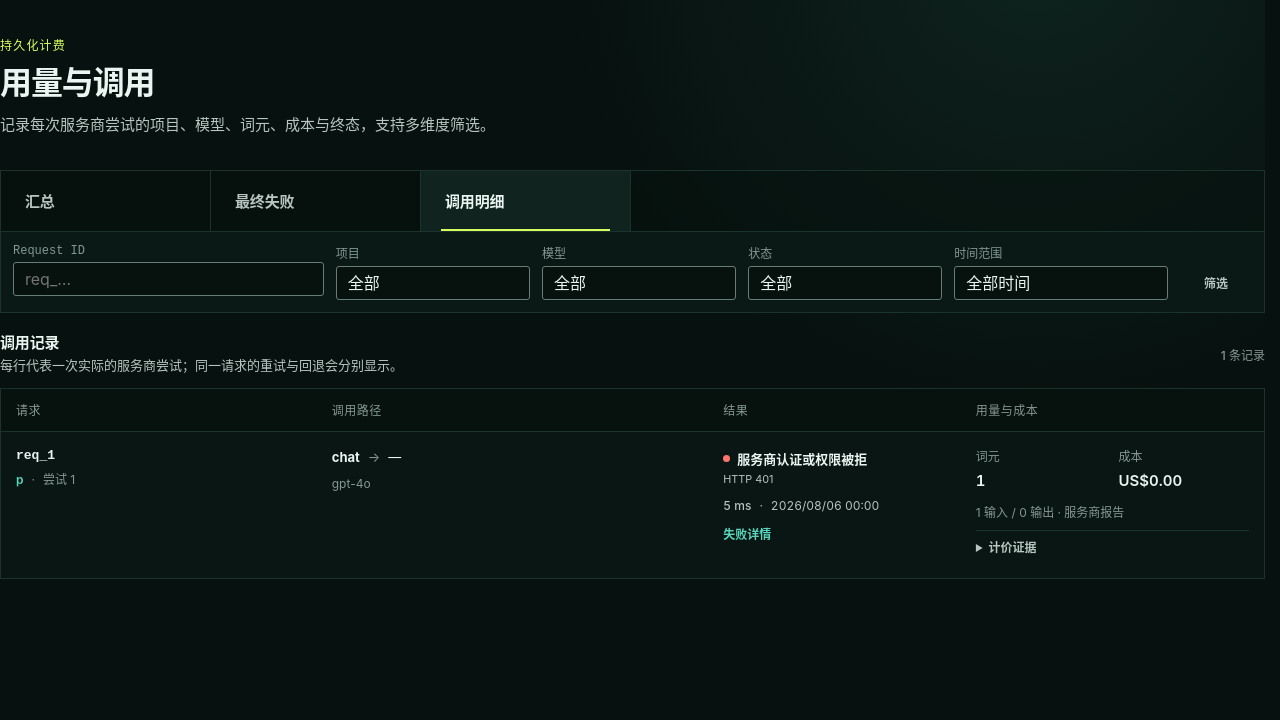
Scenario: UsagePage failure detail › names the class and the upstream status instead of the word error
This screenshot has width=1280, height=720.
Check: the text "服务商认证或权限被拒" is shown, box [723,451,867,468]
Check: the text "HTTP 401" is shown, box [723,473,774,486]
Click the button "失败详情". click: [747, 535]
box: [723,527,771,543]
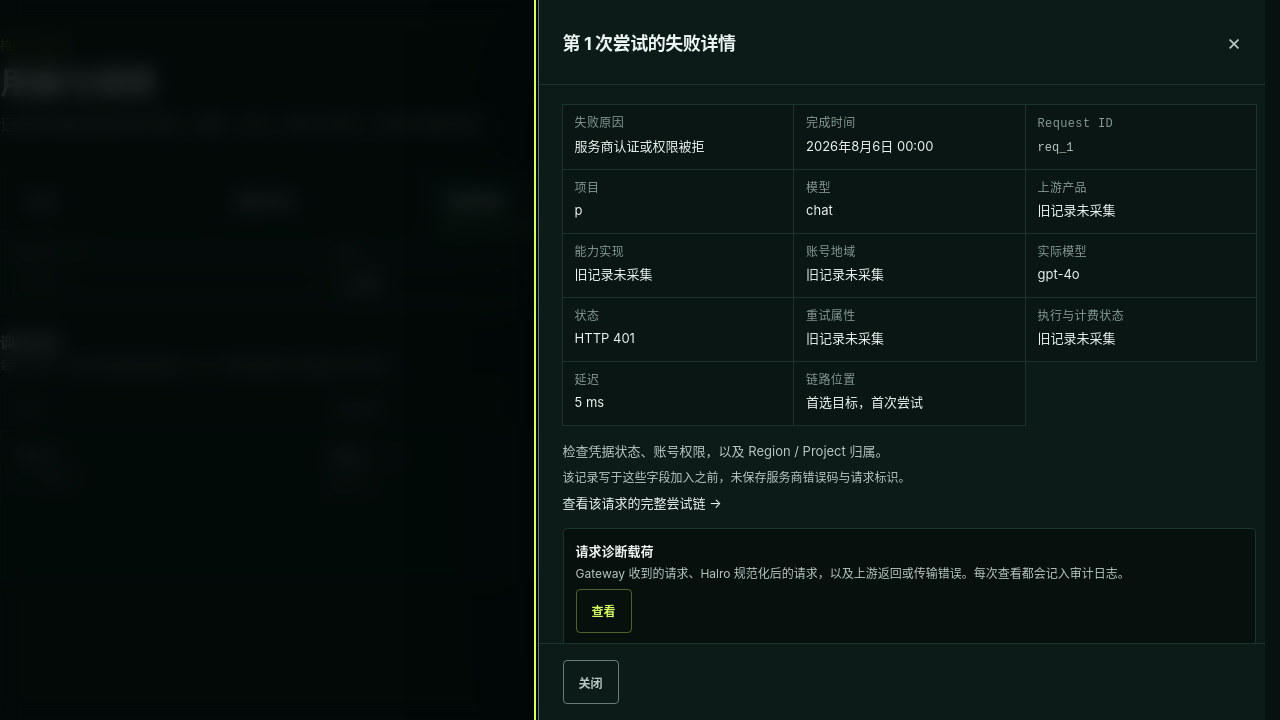
Check: the text "检查凭据状态、账号权限，以及 Region / Project 归属。" is shown, box [563,443,888,459]
